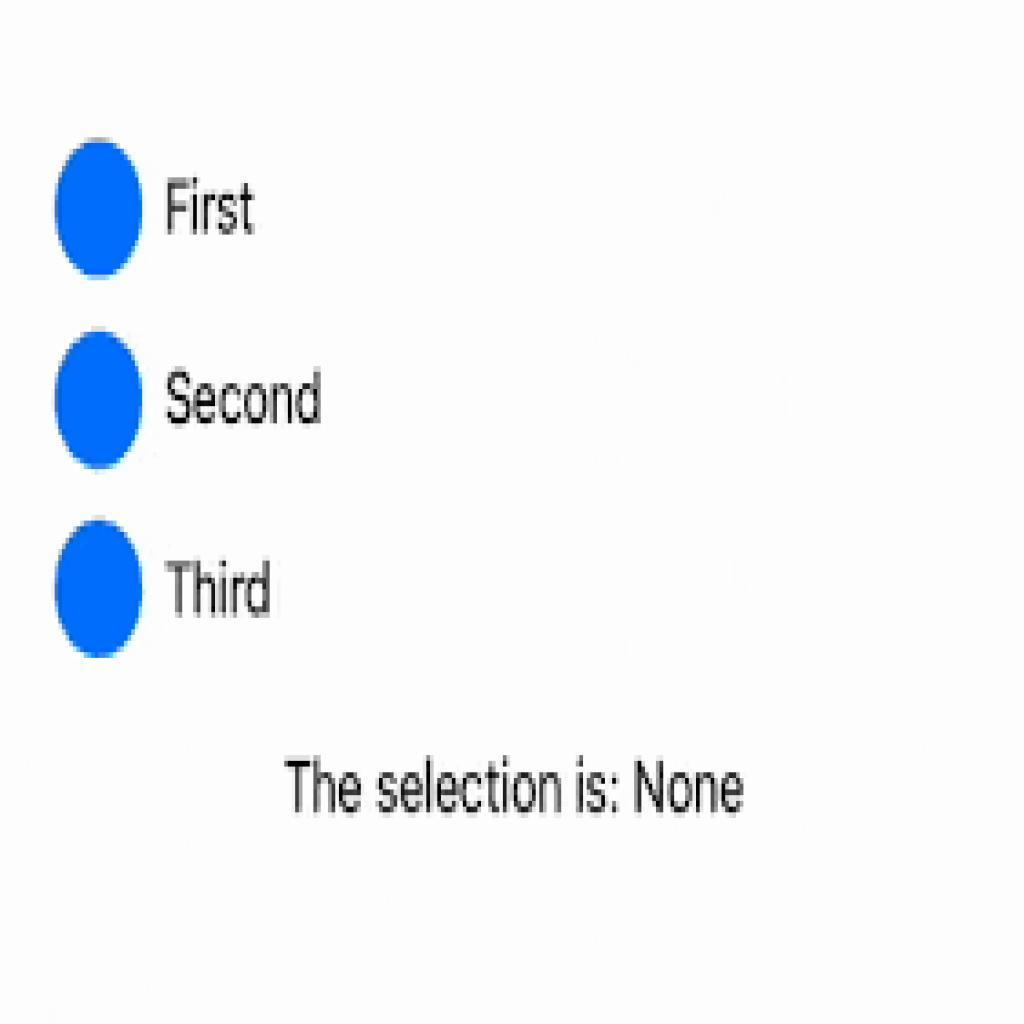label: (281, 754, 749, 822), (162, 367, 327, 427), (161, 557, 277, 620), (165, 171, 259, 241)
radio: (52, 515, 148, 667), (51, 327, 147, 473), (52, 136, 145, 280)
